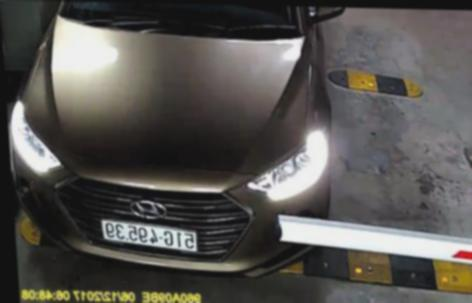License_Plate: (102, 222, 203, 252)
